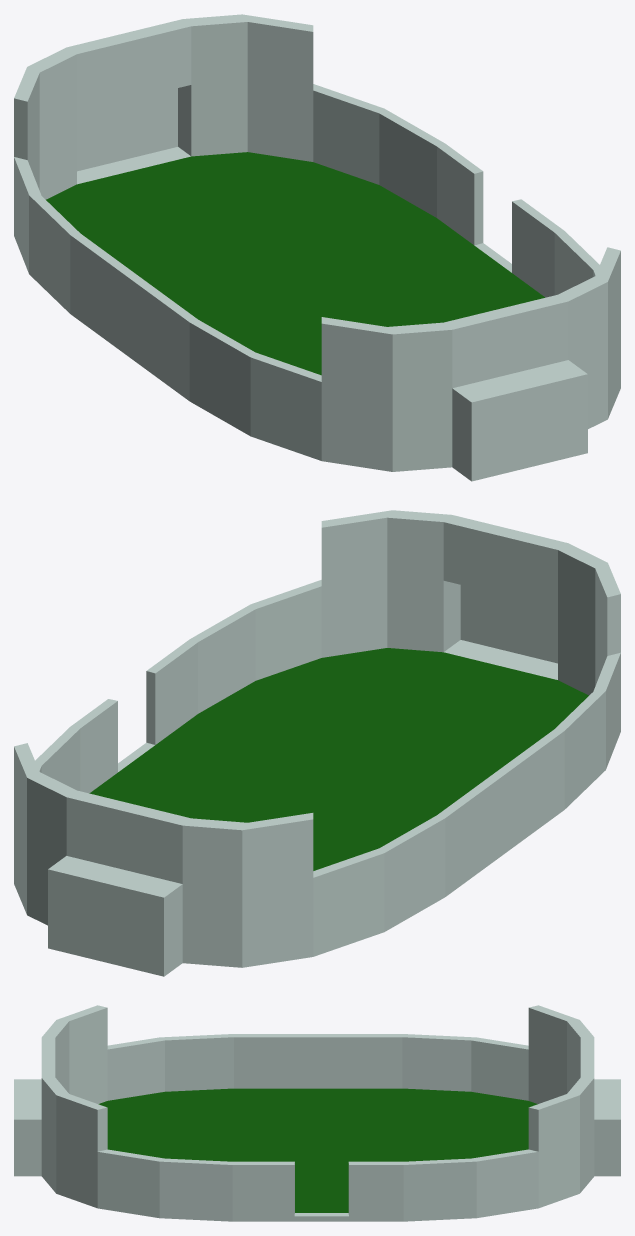
File: cancha.glb
3 renders of one model, top to bottom at view 1: azimuth 30°, elevation 25°; view 2: azimuth 150°, elevation 25°; view 3: azimuth 270°, elevation 25°, orthographic. The views are drawn at different scales.
Visible parts, largest first — view 1: Cube; view 2: Cube; view 3: Cube.
Boxes of the visible parts, left/top/right/bottom form: Cube: left=14, top=14, right=620, bottom=481; Cube: left=14, top=510, right=620, bottom=976; Cube: left=14, top=1005, right=620, bottom=1221.
Size of the model in its own units: 106 by 37.07 by 207.
